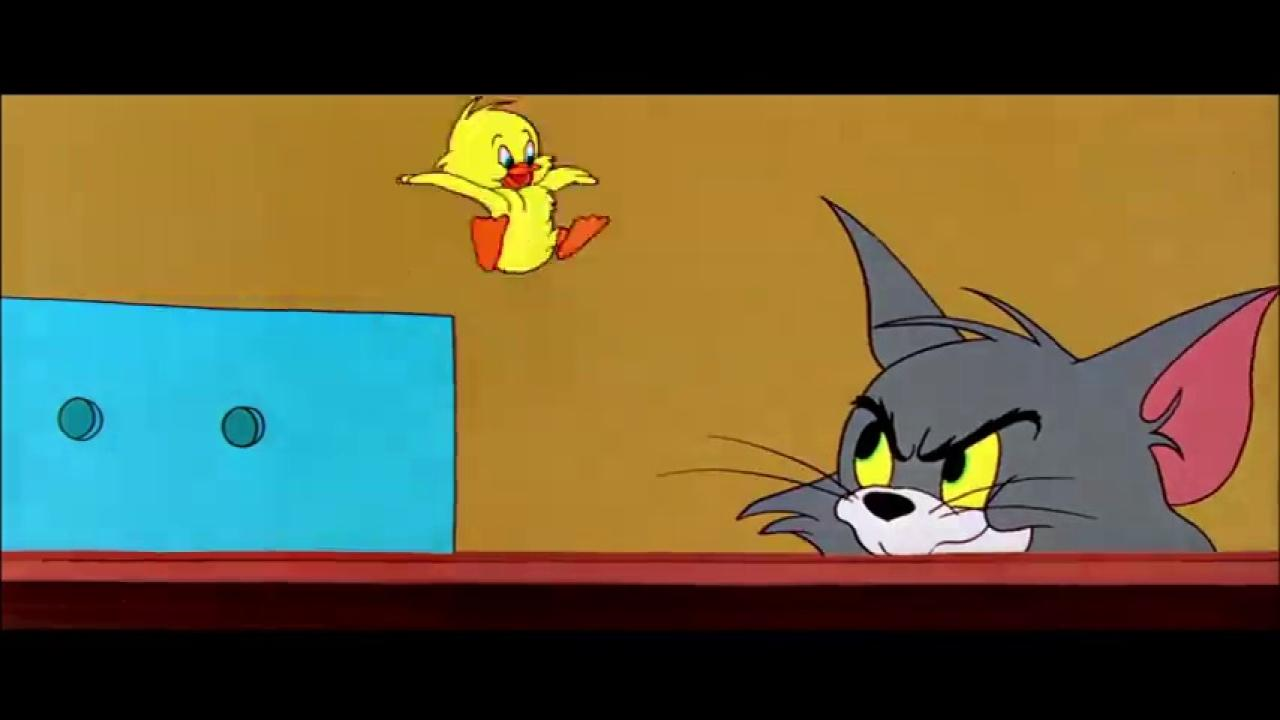Tom: (733, 192, 1280, 554)
